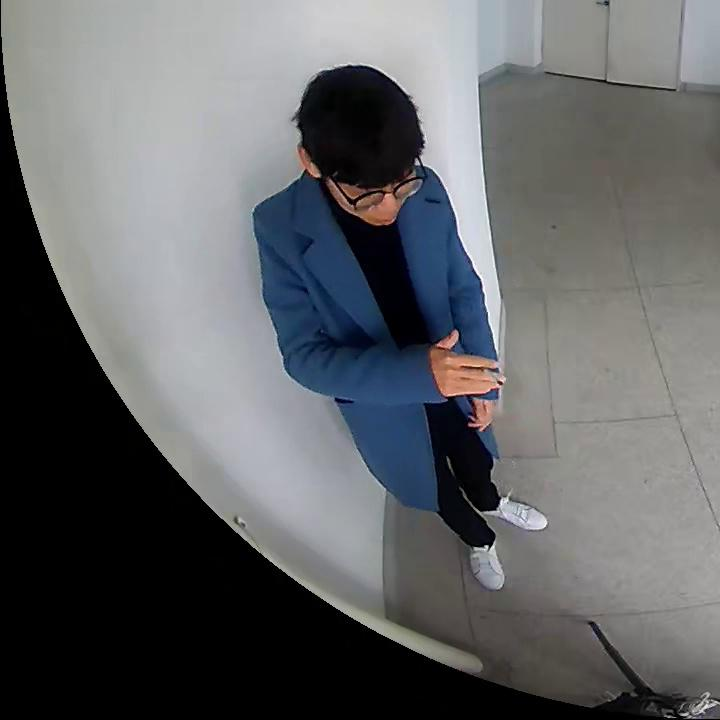handsmoke: (429, 332, 507, 397)
handwithoutsmoke: (466, 397, 501, 432)
mouthwithoutsmoke: (298, 67, 419, 231)
